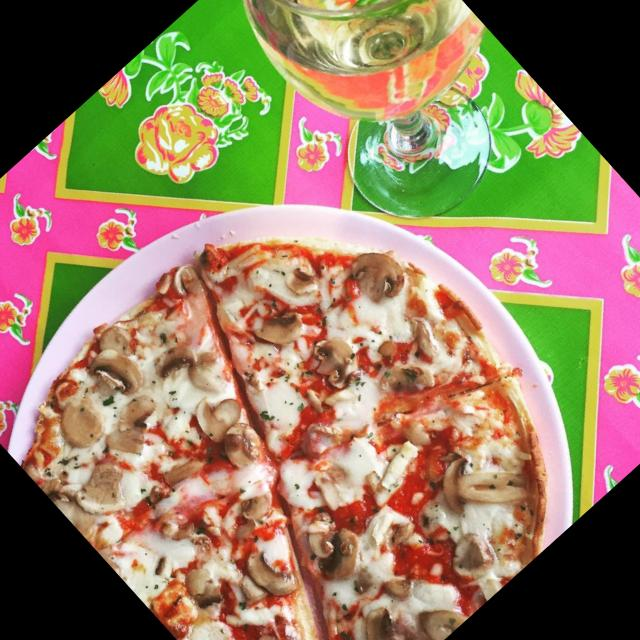mushrooms: (424, 434, 531, 540), (180, 378, 276, 476), (370, 312, 460, 402), (223, 540, 306, 624), (284, 326, 367, 409), (294, 510, 374, 590), (92, 390, 172, 468), (65, 448, 142, 525), (44, 385, 119, 460), (381, 494, 454, 566), (244, 287, 316, 357), (430, 526, 500, 594), (339, 242, 405, 309), (86, 340, 148, 403), (341, 595, 415, 640), (410, 590, 468, 640), (154, 446, 204, 496), (178, 550, 224, 597), (229, 480, 275, 526), (247, 618, 288, 640)
pizza: (14, 231, 556, 640)
